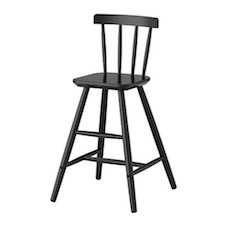chair: (31, 0, 204, 218)
